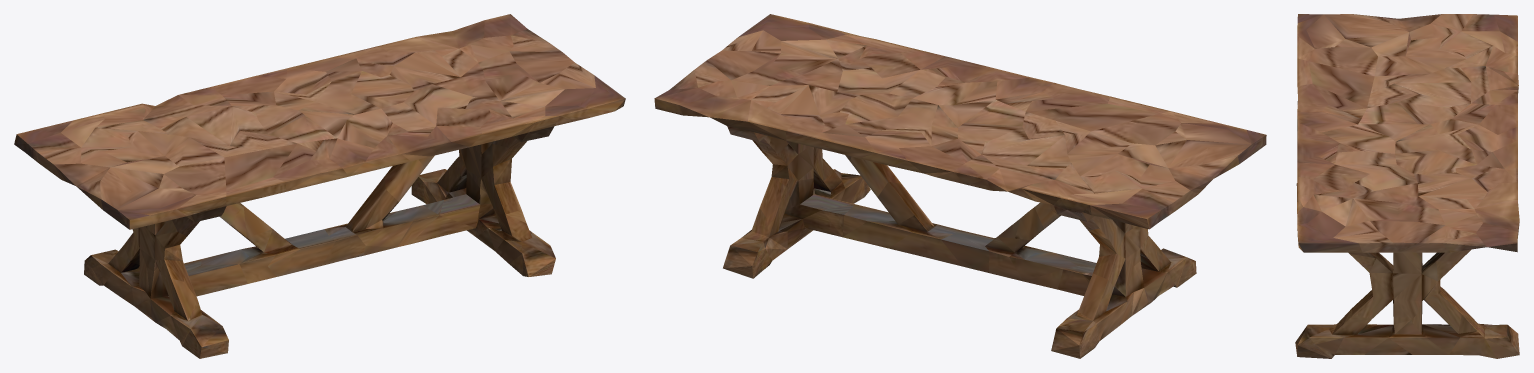
The model's file is scorers_table.glb.
The picture shows the model from 3 angles, left to right: view 1: azimuth 30°, elevation 25°; view 2: azimuth 150°, elevation 25°; view 3: azimuth 270°, elevation 25°; orthographic projection. The views are drawn at different scales.
Parts seen in each view (by area): view 1: m; view 2: m; view 3: m.
Part boxes in pixels (x1=…): m: x1=14, y1=14, x2=625, y2=358; m: x1=654, y1=14, x2=1266, y2=358; m: x1=1295, y1=14, x2=1519, y2=358.
Size of the model in its own units: 2.52 by 0.76 by 1.04.
1 material, 1 textured.
